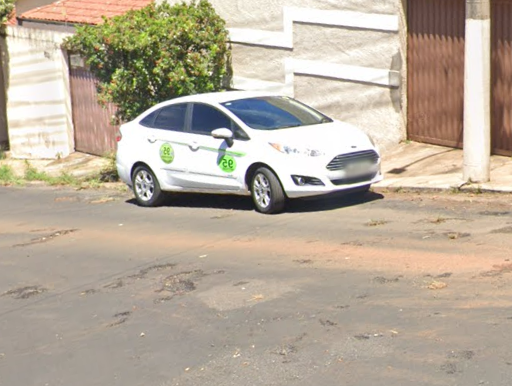car: (112, 88, 387, 219)
